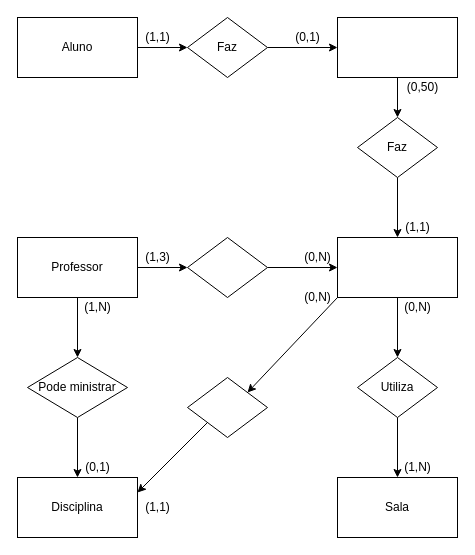
Some shapes in this 475 by 555 pixel diagram are drawn without their labels. Each missing label, with the centre of its shape:
"Ensina" goes at point 227,267.
"Gera" goes at point 227,407.
"Matricula" goes at point 397,47.
"Turma" goes at point 397,267.
